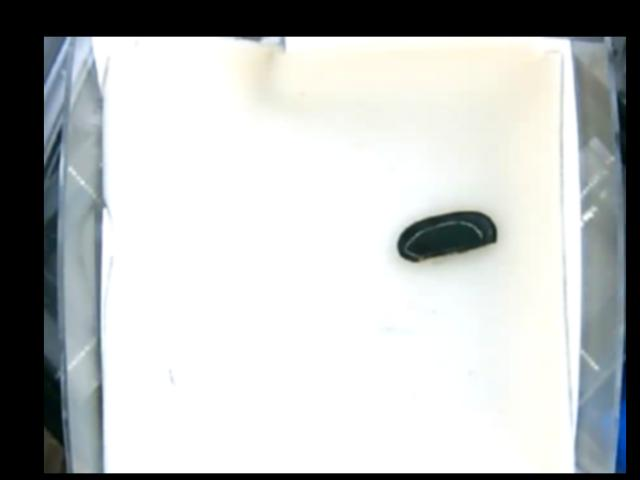Pebble: (396, 207, 499, 264)
